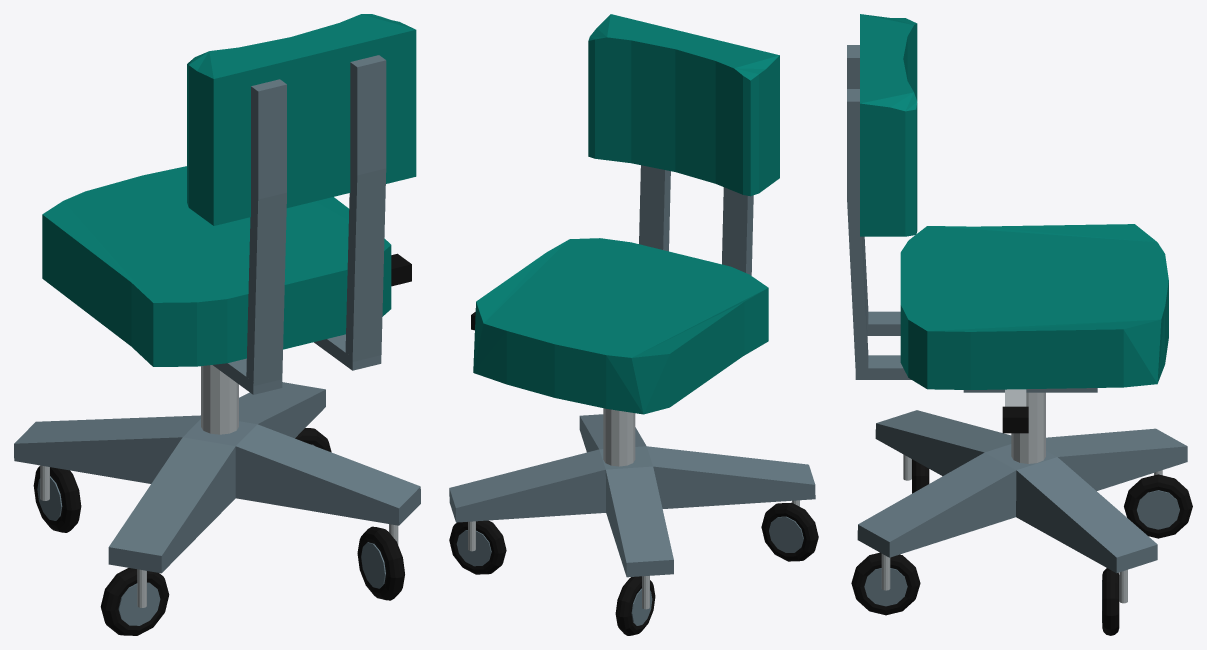
3 renders of one model, left to right at view 1: azimuth 30°, elevation 25°; view 2: azimuth 150°, elevation 25°; view 3: azimuth 270°, elevation 25°, orthographic. The views are drawn at different scales.
Visible parts, largest first — view 1: node_MeshObject-688171328-PolyPaper15; view 2: node_MeshObject-688171328-PolyPaper15; view 3: node_MeshObject-688171328-PolyPaper15.
Boxes of the visible parts, bbox=[...] form: node_MeshObject-688171328-PolyPaper15: bbox=[14, 14, 420, 635]; node_MeshObject-688171328-PolyPaper15: bbox=[449, 14, 818, 635]; node_MeshObject-688171328-PolyPaper15: bbox=[847, 14, 1192, 635].
Size of the model in its own units: 0.86 by 1.33 by 0.8.
